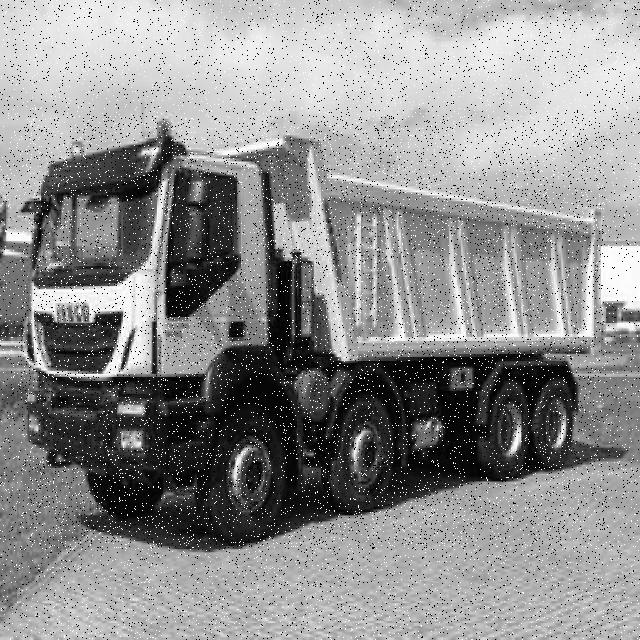Box Truck: (21, 116, 605, 550)
